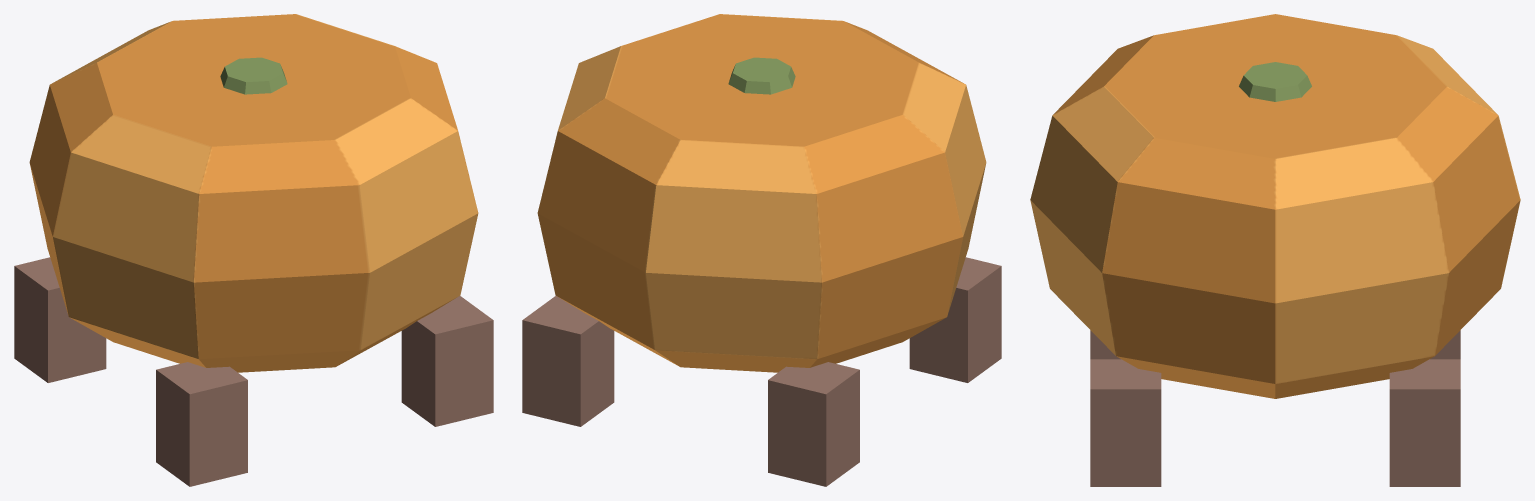
File: CustomerSeat.fbx
The picture shows the model from 3 angles, left to right: view 1: azimuth 30°, elevation 25°; view 2: azimuth 150°, elevation 25°; view 3: azimuth 270°, elevation 25°; orthographic projection. The views are drawn at different scales.
Visible parts, largest first — view 1: CustomerSeat; view 2: CustomerSeat; view 3: CustomerSeat.
Boxes of the visible parts, x1,y1,x2,y2 form: CustomerSeat: (14,14,493,486); CustomerSeat: (522,14,1001,486); CustomerSeat: (1030,14,1520,486).
Size of the model in its own units: 200 by 150 by 200.
1 material, 1 textured.
